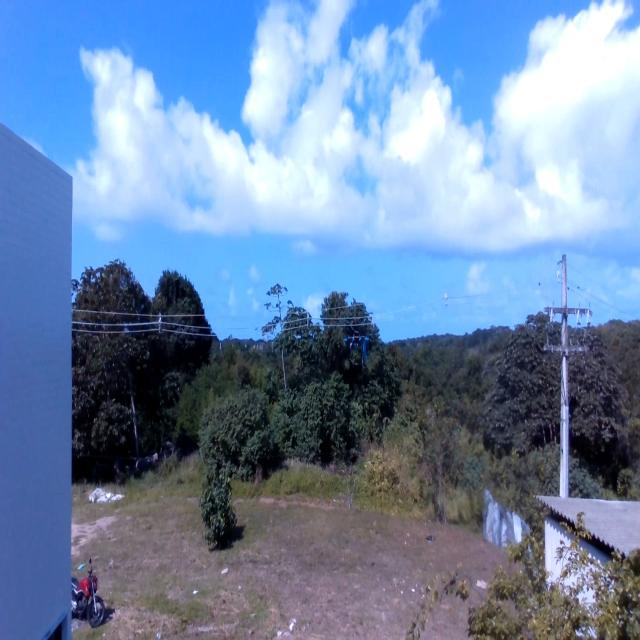-uav-: (336, 328, 378, 373)
